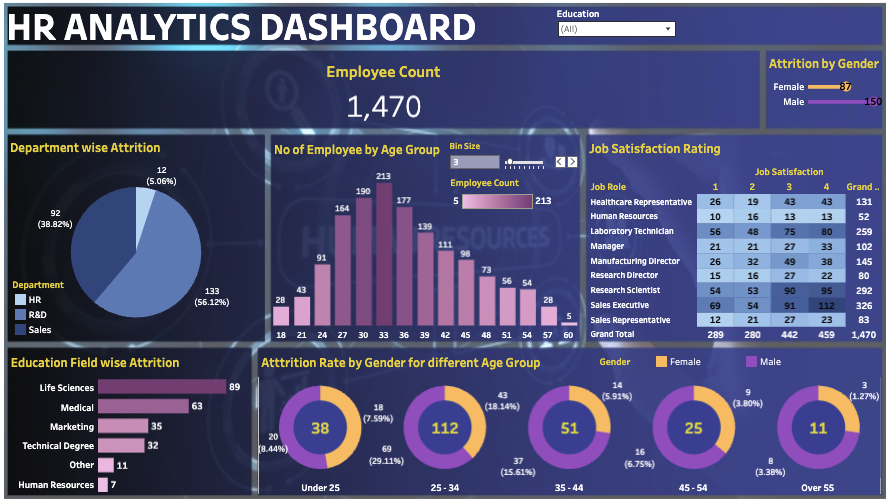

Layout of this report page (visuals, bound fields, positions):
{"tool":"tableau","page":{"name":"HR Analytics Dashboard","canvas":[1200,750],"ordinal":0},"visuals":[{"type":"image","param":"/Users/shubhamk/Documents/GitHub/HR_Analytics_Dashboard/HR background Final.png","box":[8,8,1184,734]},{"type":"text","box":[15,44,927,60]},{"type":"filter","title":"No of Employee by Age Group","param":"[federated.1gnn0n21e2tibr192hwur0ghzu7i].[none:Education:nk]","box":[749,49,160,48]},{"type":"worksheet","title":"Attrition by Gender","mark":"Automatic","rows":["Gender"],"cols":["Calculation_3184819019459325952","Calculation_3184819019459325952"],"box":[1028,107,155,101]},{"type":"worksheet","title":"KPI","mark":"Automatic","box":[17,108,1002,102]},{"type":"worksheet","title":"Department wise Attrition","mark":"Pie","box":[16,219,344,276]},{"type":"worksheet","title":"Job Satisfaction Rating","mark":"Square","rows":["Job Role"],"cols":["Job Satisfaction"],"box":[788,220,394,275]},{"type":"worksheet","title":"No of Employee by Age Group","mark":"Automatic","rows":["Employee Count"],"cols":["Age (bin)"],"box":[368,221,410,272]},{"type":"parameter","param":"[Parameters].[Parameter 1]","box":[606,227,174,55]},{"type":"legend","title":"No of Employee by Age Group","param":"[federated.1gnn0n21e2tibr192hwur0ghzu7i].[sum:Employee Count:qk]","box":[607,275,140,56]},{"type":"legend","title":"Department wise Attrition","param":"[federated.1gnn0n21e2tibr192hwur0ghzu7i].[none:Department:nk]","box":[23,410,88,78]},{"type":"worksheet","title":"Education Field wise Attrition","mark":"Automatic","rows":["Education Field"],"cols":["Calculation_3184819019459325952"],"box":[17,505,324,193]},{"type":"worksheet","title":"Atttrition Rate by Gender for different Age Group ","mark":"Pie","rows":["Calculation_3184819020205449220","Calculation_3184819020205449220"],"cols":["CF_age band"],"box":[351,505,830,194]},{"type":"legend","title":"Atttrition Rate by Gender for different Age Group ","param":"[federated.1gnn0n21e2tibr192hwur0ghzu7i].[none:Gender:nk]","box":[806,512,315,34]}]}

Visuals, with their boxes on the page's 1200x750 design canvas (x1, y1, x2, y2). These are canvas units, not pixel positions in the 891x500 screenshot, which may show the page scaled, cropped or inside an application window:
image: detection(8, 8, 1192, 742)
text: detection(15, 44, 942, 104)
"No of Employee by Age Group" filter: detection(749, 49, 909, 97)
"Attrition by Gender" worksheet: detection(1028, 107, 1183, 208)
"KPI" worksheet: detection(17, 108, 1019, 210)
"Department wise Attrition" worksheet (Pie marks): detection(16, 219, 360, 495)
"Job Satisfaction Rating" worksheet (Square marks): detection(788, 220, 1182, 495)
"No of Employee by Age Group" worksheet: detection(368, 221, 778, 493)
parameter: detection(606, 227, 780, 282)
"No of Employee by Age Group" legend: detection(607, 275, 747, 331)
"Department wise Attrition" legend: detection(23, 410, 111, 488)
"Education Field wise Attrition" worksheet: detection(17, 505, 341, 698)
"Atttrition Rate by Gender for different Age Group " worksheet (Pie marks): detection(351, 505, 1181, 699)
"Atttrition Rate by Gender for different Age Group " legend: detection(806, 512, 1121, 546)
